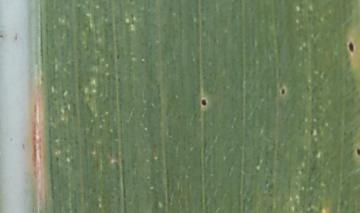tarspot: (345, 40, 355, 54), (198, 97, 210, 108), (351, 144, 360, 158), (279, 87, 287, 97)
